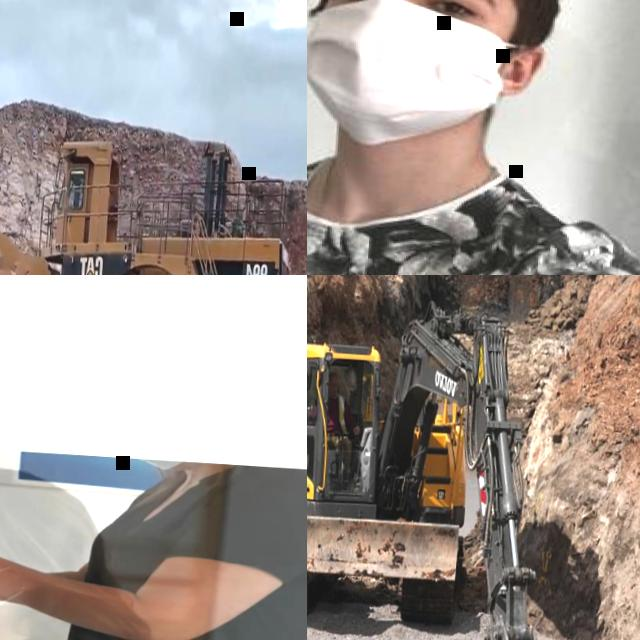Mask: (307, 0, 518, 155), (136, 456, 182, 473)
NO-Hardhat: (0, 461, 75, 536), (328, 372, 339, 383)
NO-Mask: (327, 388, 337, 399)
NO-Safety Vest: (55, 459, 307, 640), (307, 167, 582, 275)
Person: (307, 0, 640, 275), (47, 452, 307, 640), (0, 456, 176, 640), (307, 370, 363, 483), (78, 183, 84, 211)
Safety Vest: (336, 395, 350, 436)
vehicle: (307, 288, 630, 640), (0, 100, 307, 275)
